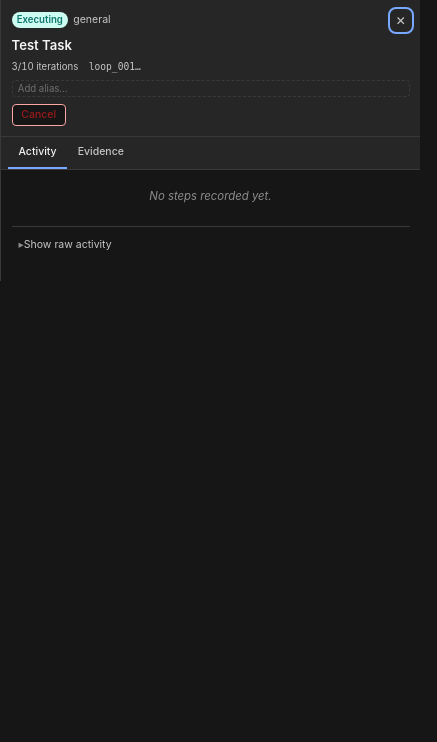
Scenario: TaskDetailPanel › tabs › clicking a tab switches the visible panel
Click the tab with test id "tab-evidence" at (101, 153), box [67, 137, 134, 169]
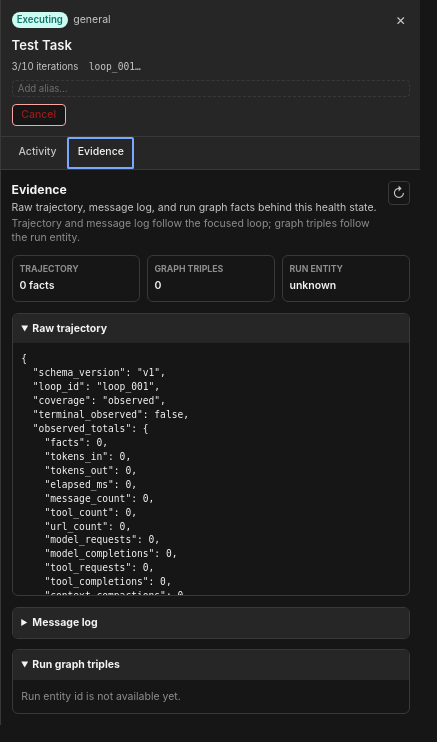
Expected: the panel with test id "panel-evidence" is shown
Expected: the element with test id "run-evidence-panel" is shown
Expected: the panel with test id "panel-activity" is gone
